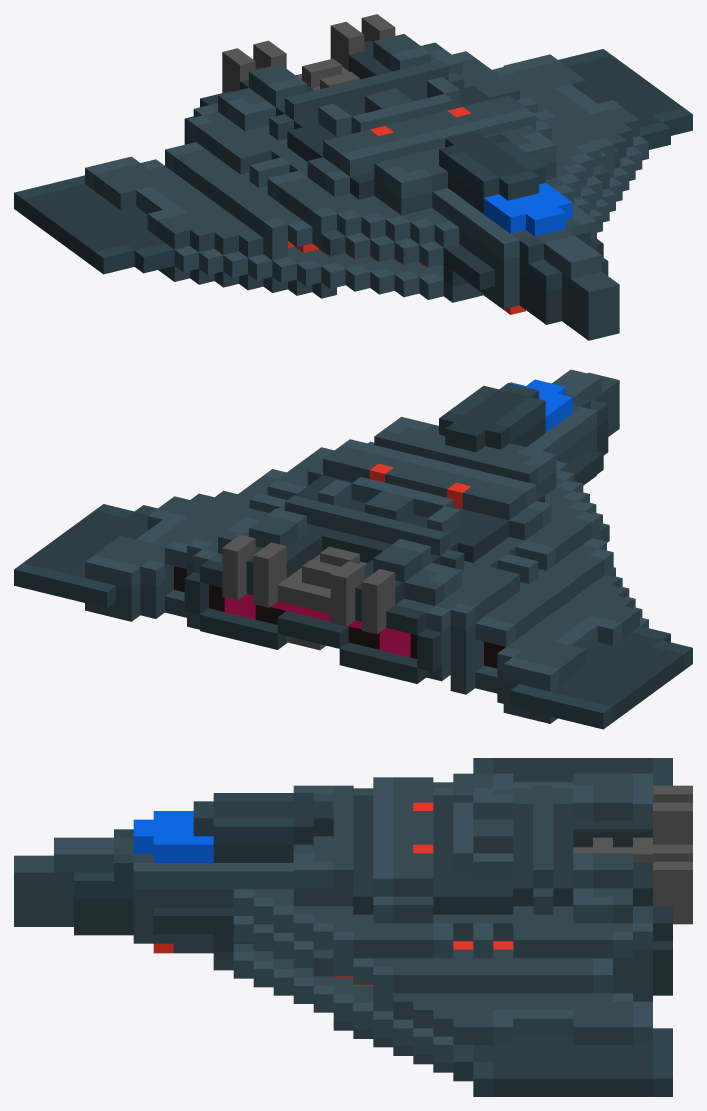
Rendered from Extra-0-InfraredFurtive_Body.obj.
The picture shows the model from 3 angles, top to bottom: view 1: azimuth 30°, elevation 25°; view 2: azimuth 150°, elevation 25°; view 3: azimuth 270°, elevation 25°; orthographic projection. The views are drawn at different scales.
Visible parts, largest first — view 1: InfraredFurtive_Body; view 2: InfraredFurtive_Body; view 3: InfraredFurtive_Body.
Boxes of the visible parts, left/top/right/bottom form: InfraredFurtive_Body: left=14, top=14, right=692, bottom=340; InfraredFurtive_Body: left=14, top=369, right=692, bottom=729; InfraredFurtive_Body: left=14, top=758, right=692, bottom=1096.
Size of the model in its own units: 3.8 by 0.8 by 3.4.
1 material, 1 textured.
